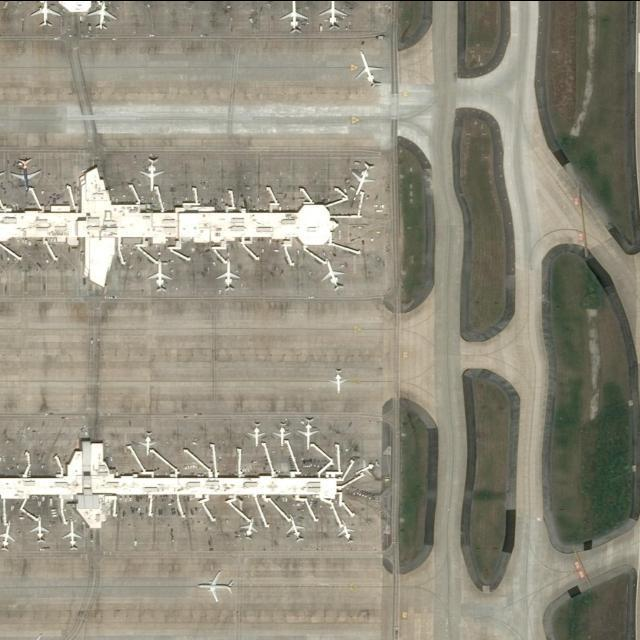Aircraft: (197, 567, 238, 601), (10, 152, 42, 195), (138, 154, 170, 194), (348, 159, 378, 199), (354, 46, 382, 88), (148, 252, 176, 293), (280, 0, 312, 35), (319, 256, 347, 296), (88, 0, 120, 30), (216, 256, 241, 294), (31, 0, 61, 30), (30, 513, 55, 547), (321, 0, 349, 30), (62, 518, 86, 552), (298, 418, 321, 452), (327, 365, 351, 395), (138, 428, 159, 459), (336, 519, 360, 546), (0, 517, 19, 551), (285, 515, 309, 541), (245, 421, 267, 449), (272, 421, 293, 449), (238, 515, 260, 541), (354, 458, 381, 479), (23, 632, 55, 640)
